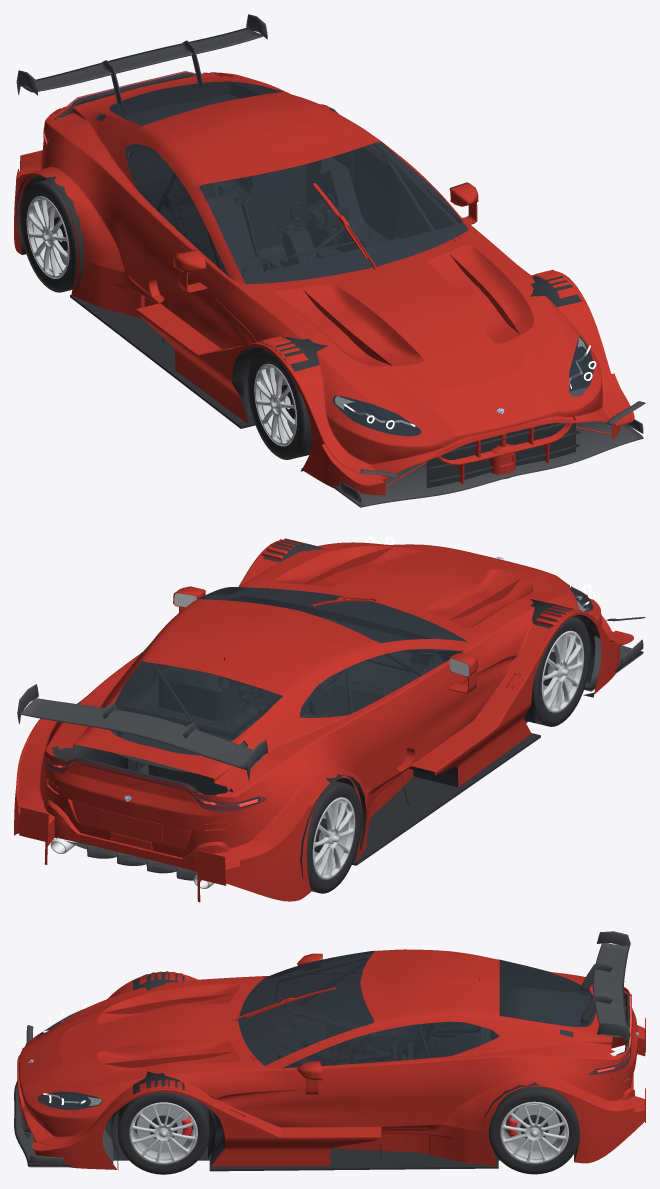
File: kestrel_gt_hero.glb
3 renders of one model, top to bottom at view 1: azimuth 30°, elevation 25°; view 2: azimuth 150°, elevation 25°; view 3: azimuth 270°, elevation 25°, orthographic. The views are drawn at different scales.
Visible parts, largest first — view 1: body, glass_windows, interior_cabin, splitter_carbon, wing_assembly, grille_assembly, wheel_well_liners, underbody__26, wheel_RR_rim, wheel_FR_rim, wheel_RR_tyre, wheel_FR_tyre (+5 smaller); view 2: body, glass_windows, interior_cabin, wing_assembly, underbody__26, wheel_well_liners, wheel_RR_rim, wheel_FR_rim, wheel_RR_tyre, wheel_FR_tyre, diffuser_carbon, taillight_housing (+4 smaller); view 3: body, glass_windows, interior_cabin, wing_assembly, wheel_RL_tyre, wheel_FL_tyre, wheel_well_liners, underbody__26, wheel_RL_rim, wheel_FL_rim, splitter_carbon, wheel_FL_disc (+4 smaller).
Part boxes in pixels (bbox=[...]): body: bbox=[14, 72, 634, 495]; glass_windows: bbox=[43, 71, 593, 436]; interior_cabin: bbox=[95, 81, 468, 283]; splitter_carbon: bbox=[333, 401, 645, 507]; wing_assembly: bbox=[16, 14, 267, 110]; grille_assembly: bbox=[426, 423, 579, 487]; wheel_well_liners: bbox=[15, 107, 592, 456]; underbody__26: bbox=[19, 175, 302, 471]; wheel_RR_rim: bbox=[26, 196, 69, 278]; wheel_FR_rim: bbox=[254, 363, 296, 446]; wheel_RR_tyre: bbox=[20, 180, 77, 292]; wheel_FR_tyre: bbox=[247, 349, 307, 459]; body: bbox=[14, 538, 633, 902]; glass_windows: bbox=[43, 586, 593, 811]; interior_cabin: bbox=[105, 587, 467, 795]; wing_assembly: bbox=[17, 684, 267, 779]; underbody__26: bbox=[75, 614, 600, 865]; wheel_well_liners: bbox=[51, 539, 595, 879]; wheel_RR_rim: bbox=[312, 797, 355, 879]; wheel_FR_rim: bbox=[541, 630, 584, 713]; wheel_RR_tyre: bbox=[306, 781, 361, 893]; wheel_FR_tyre: bbox=[531, 616, 590, 726]; diffuser_carbon: bbox=[55, 837, 197, 880]; taillight_housing: bbox=[44, 757, 264, 810]; body: bbox=[17, 949, 645, 1169]; glass_windows: bbox=[37, 950, 632, 1110]; interior_cabin: bbox=[238, 951, 595, 1067]; wing_assembly: bbox=[579, 931, 630, 1045]; wheel_RL_tyre: bbox=[488, 1087, 579, 1174]; wheel_FL_tyre: bbox=[118, 1092, 209, 1174]; wheel_well_liners: bbox=[111, 972, 583, 1160]; underbody__26: bbox=[105, 1113, 578, 1171]; wheel_RL_rim: bbox=[500, 1101, 568, 1164]; wheel_FL_rim: bbox=[129, 1102, 197, 1164]; splitter_carbon: bbox=[14, 1025, 113, 1167]; wheel_FL_disc: bbox=[137, 1104, 187, 1152].
Size of the model in its own units: 2.01 by 1.11 by 4.51.
